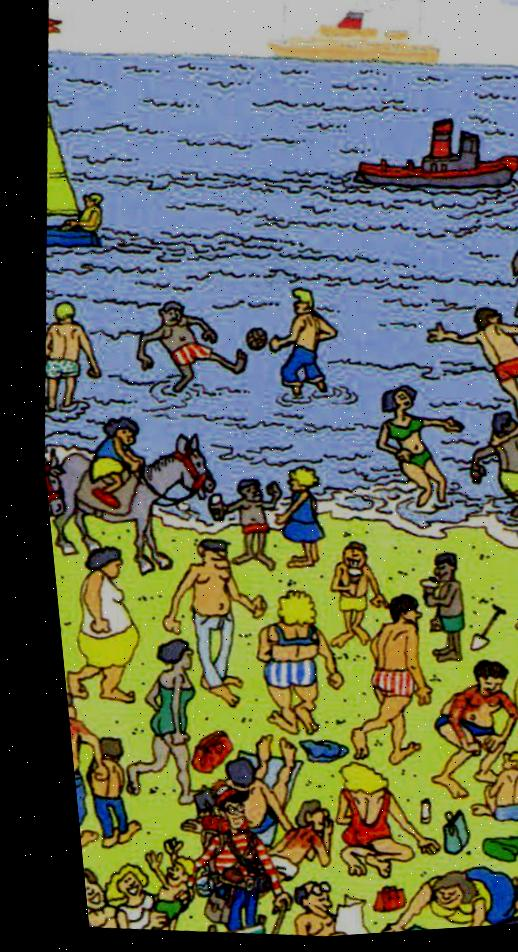waldo: (192, 779, 237, 834)
